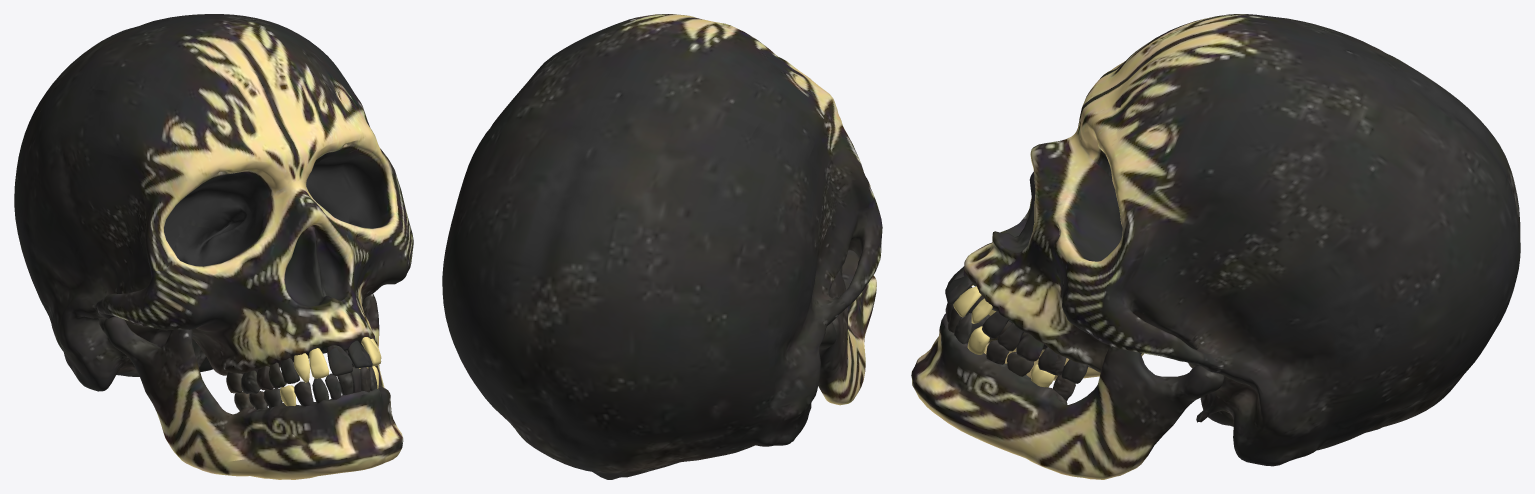
The model's file is skull_clean.glb.
The picture shows the model from 3 angles, left to right: view 1: azimuth 30°, elevation 25°; view 2: azimuth 150°, elevation 25°; view 3: azimuth 270°, elevation 25°; orthographic projection. The views are drawn at different scales.
Visible parts, largest first — view 1: Group5732_001; view 2: Group5732_001; view 3: Group5732_001.
Boxes of the visible parts, x1,y1,x2,y2 form: Group5732_001: (14, 14, 413, 479); Group5732_001: (442, 14, 882, 479); Group5732_001: (911, 14, 1520, 479).
Bounding box in the file's own units: 1.22 × 1.46 × 2.
2 materials, 1 textured.
